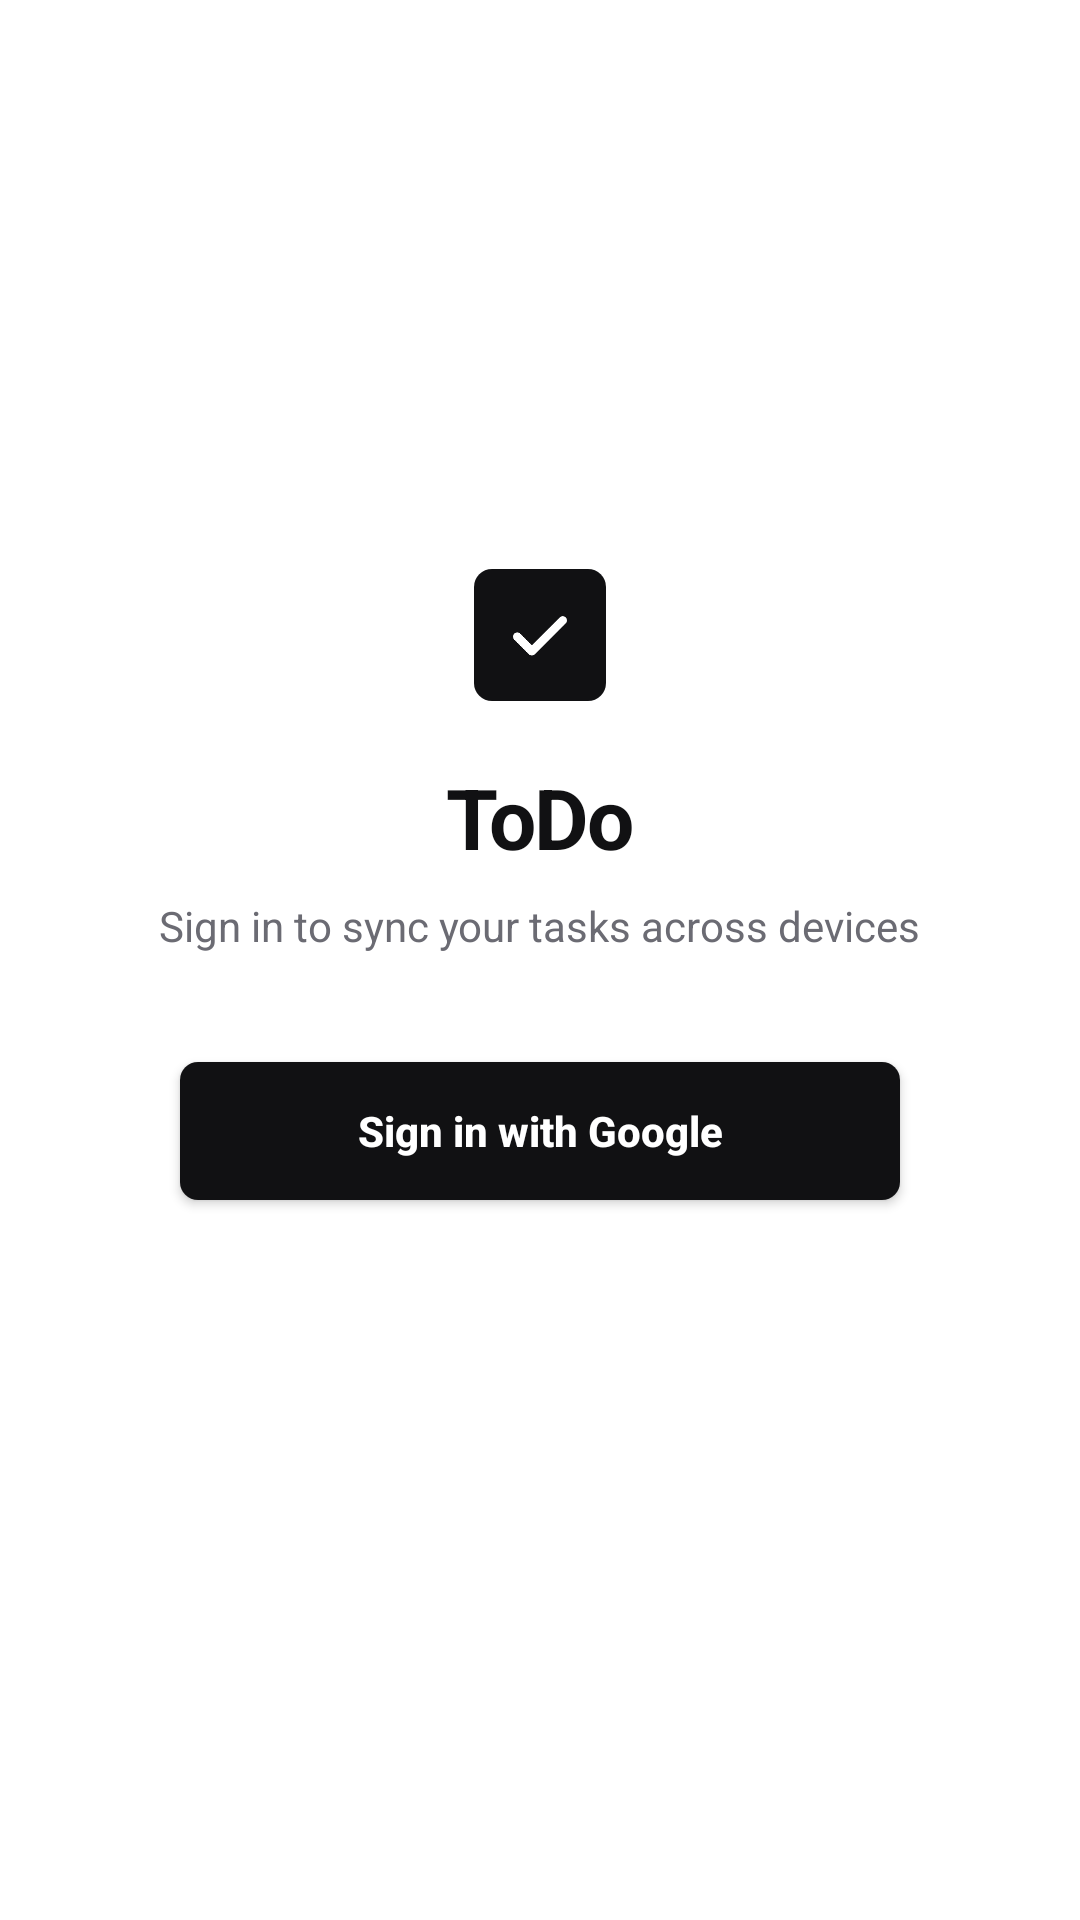

Locate icon controls on the screen. Image size 1080*1920, boxes as bbox=(x1, y1, x2, y2).
mark check: bbox=(513, 616, 567, 656)
